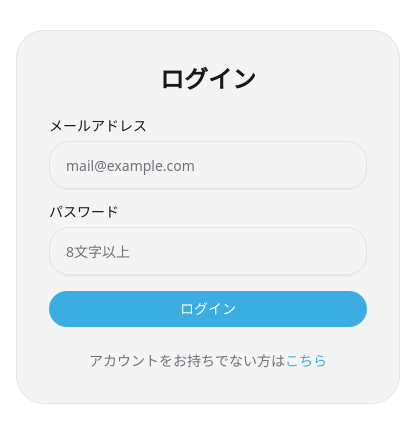
it: AuthForm › 空のメールアドレスでは必須エラーを表示する
Type "12345678" into the password field labelled "パスワード" at (208,251), box 49,227 -> 367,275
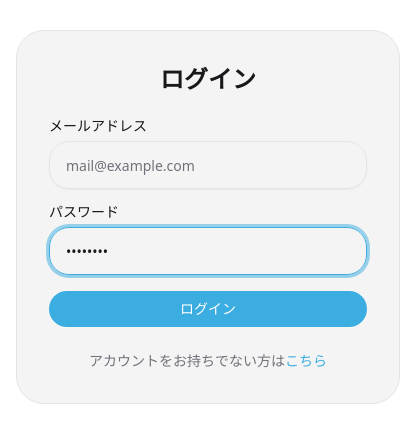
Click the button "ログイン" at (208,309), box 49,291 -> 367,327
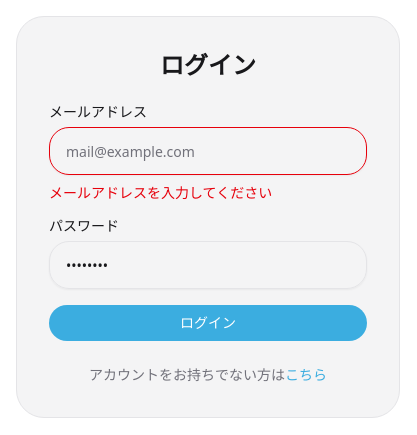
Expected: the text "メールアドレスを入力してください" is shown, 49,183 -> 272,202
